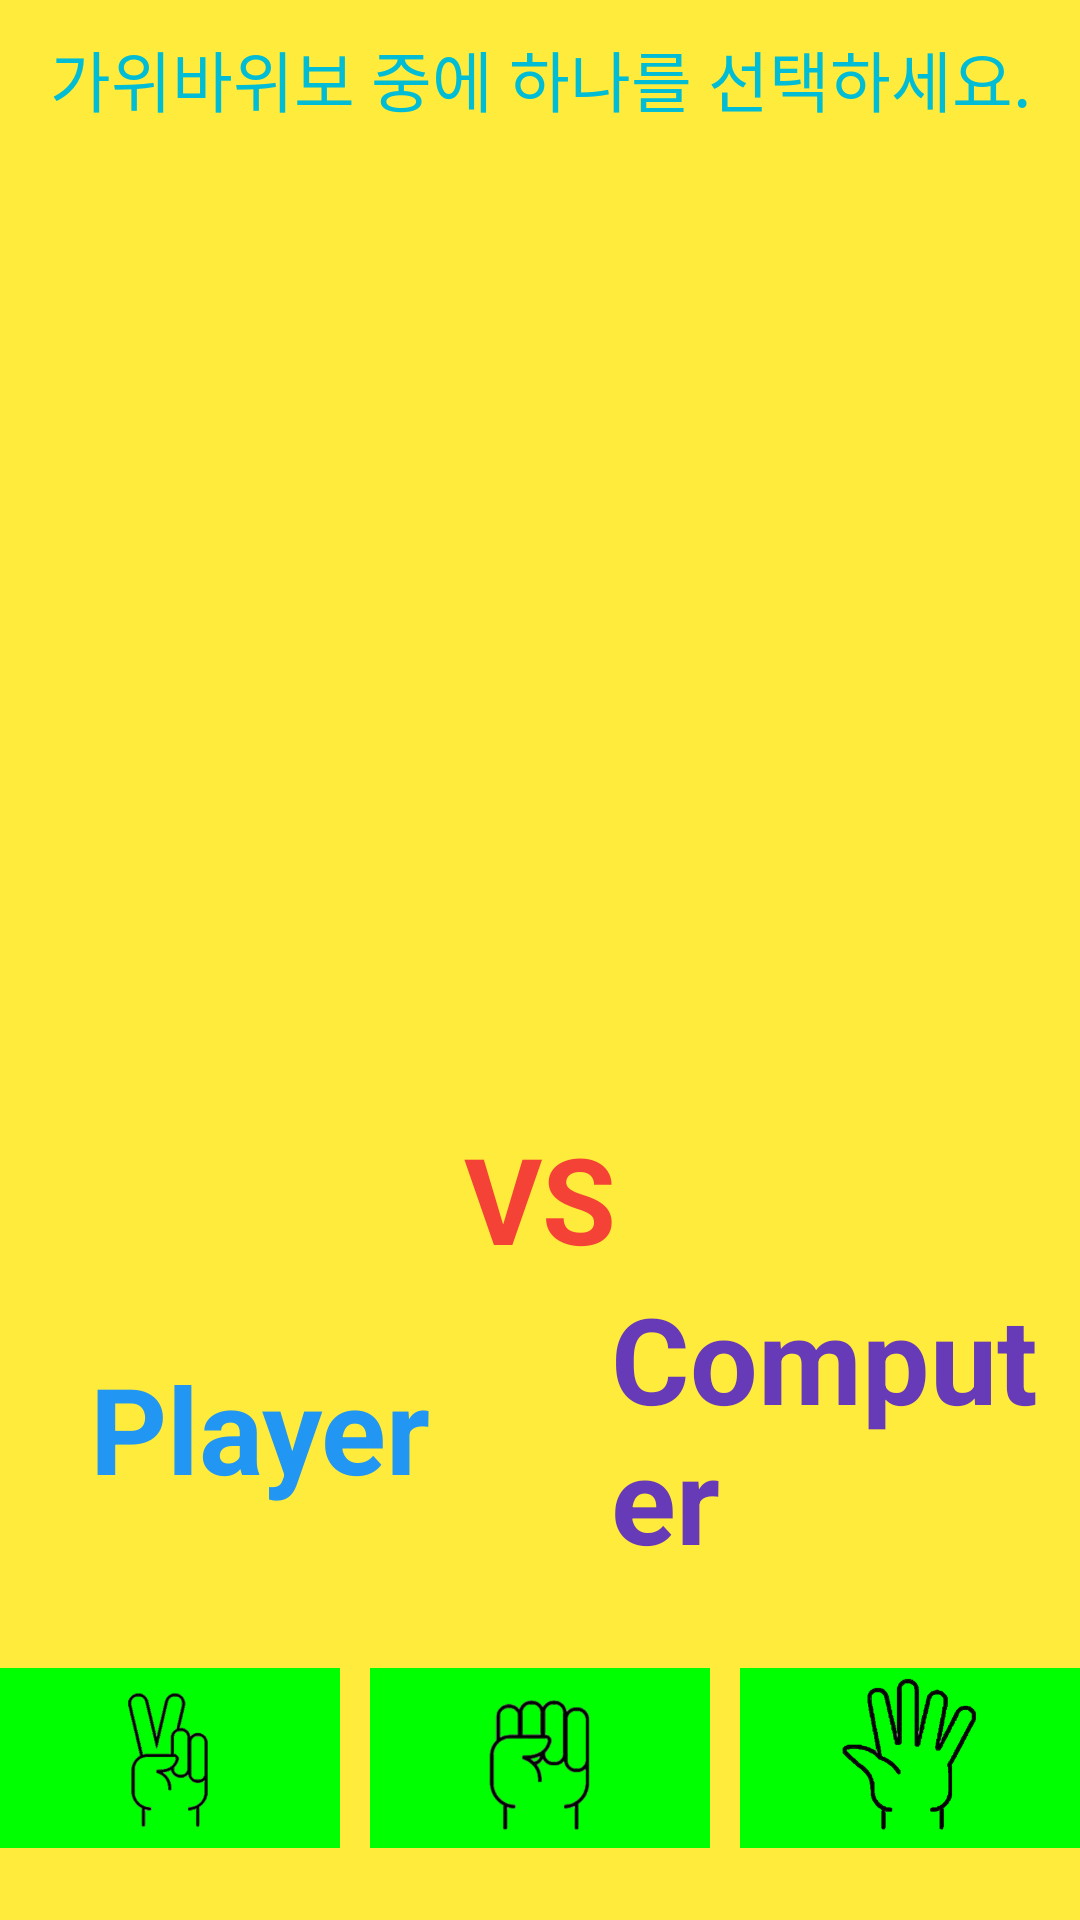

Point at icon controls on the screen. Image size 1080w x 1920h, points as (x=x, y=y).
bawi: (x=540, y=1758)
gawi: (x=170, y=1758)
